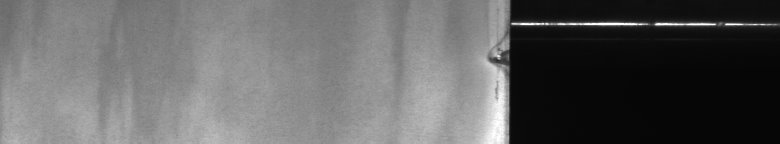hb: (480, 37, 500, 104)
